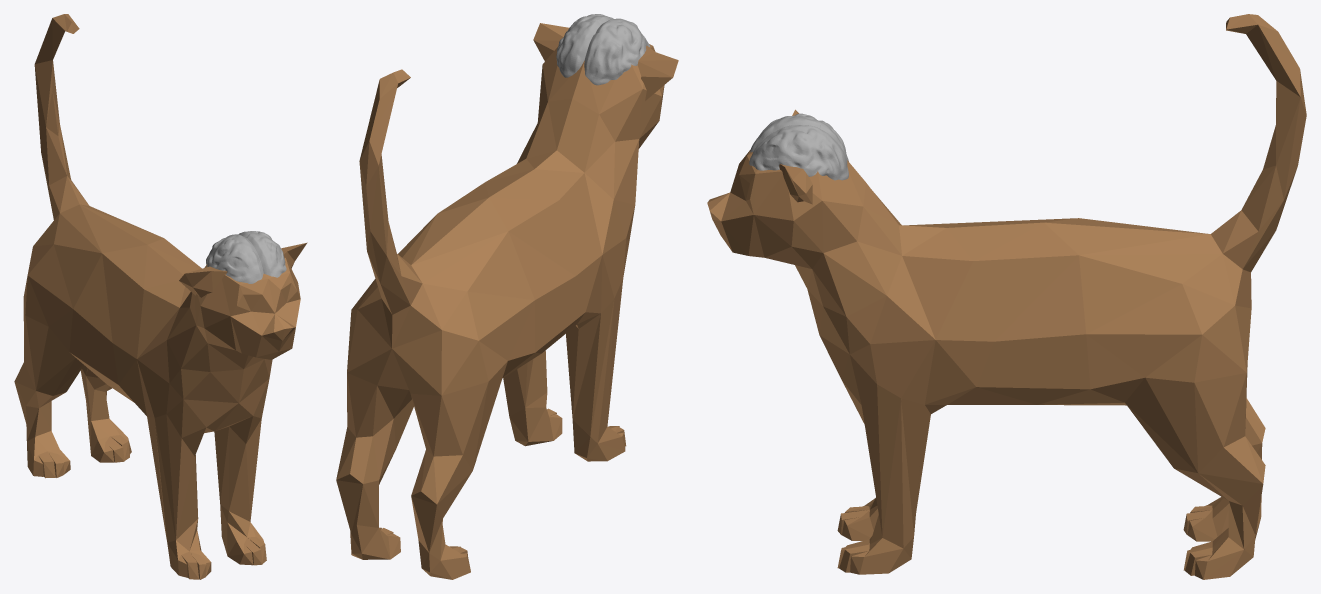
File: CatFullEarsDownRresized.fbx
3 views of the same model, side by side, from view 1: azimuth 30°, elevation 25°; view 2: azimuth 150°, elevation 25°; view 3: azimuth 270°, elevation 25° (orthographic). The views are drawn at different scales.
Visible parts, largest first — view 1: polySurface3; view 2: polySurface3; view 3: polySurface3.
Boxes of the visible parts, x1,y1,x2,y2 form: polySurface3: (14, 14, 307, 579); polySurface3: (336, 14, 678, 579); polySurface3: (707, 14, 1306, 579).
Size of the model in its own units: 126 by 419 by 424.
